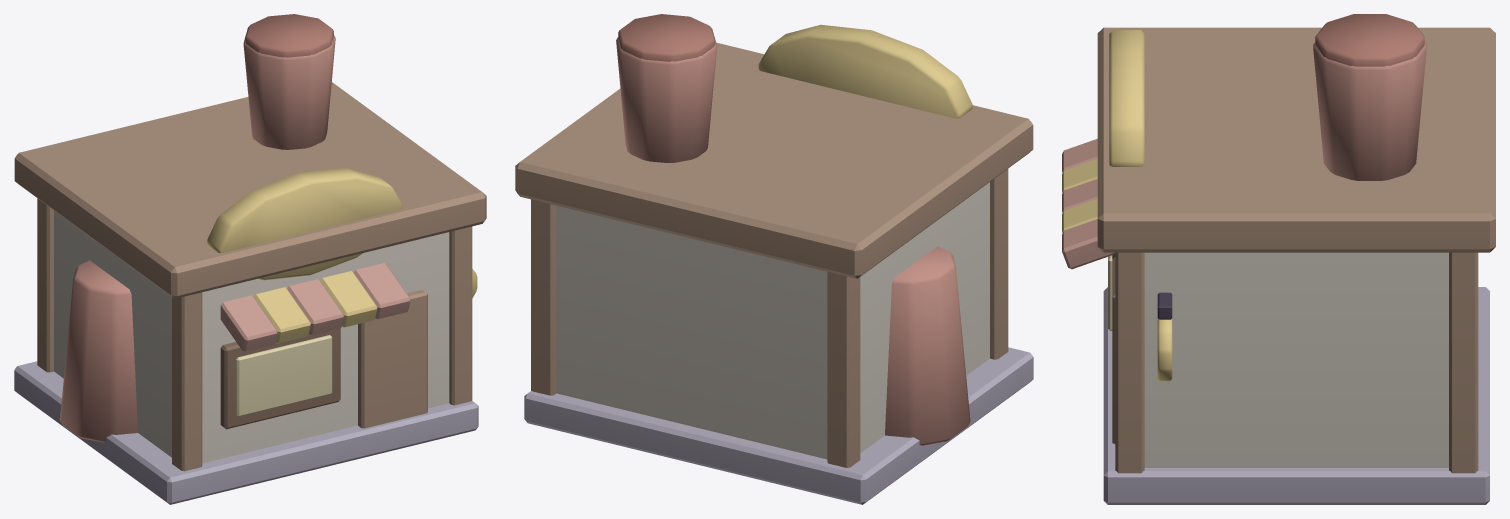
The model's file is bakery.glb.
3 renders of one model, left to right at view 1: azimuth 30°, elevation 25°; view 2: azimuth 150°, elevation 25°; view 3: azimuth 270°, elevation 25°, orthographic. The views are drawn at different scales.
Parts seen in each view (by area): view 1: bakery; view 2: bakery; view 3: bakery.
Part boxes in pixels (x1=…): bakery: x1=14, y1=14, x2=486, y2=504; bakery: x1=515, y1=14, x2=1033, y2=504; bakery: x1=1062, y1=14, x2=1495, y2=504.
Size of the model in its own units: 1.6 by 1.5 by 1.4.
